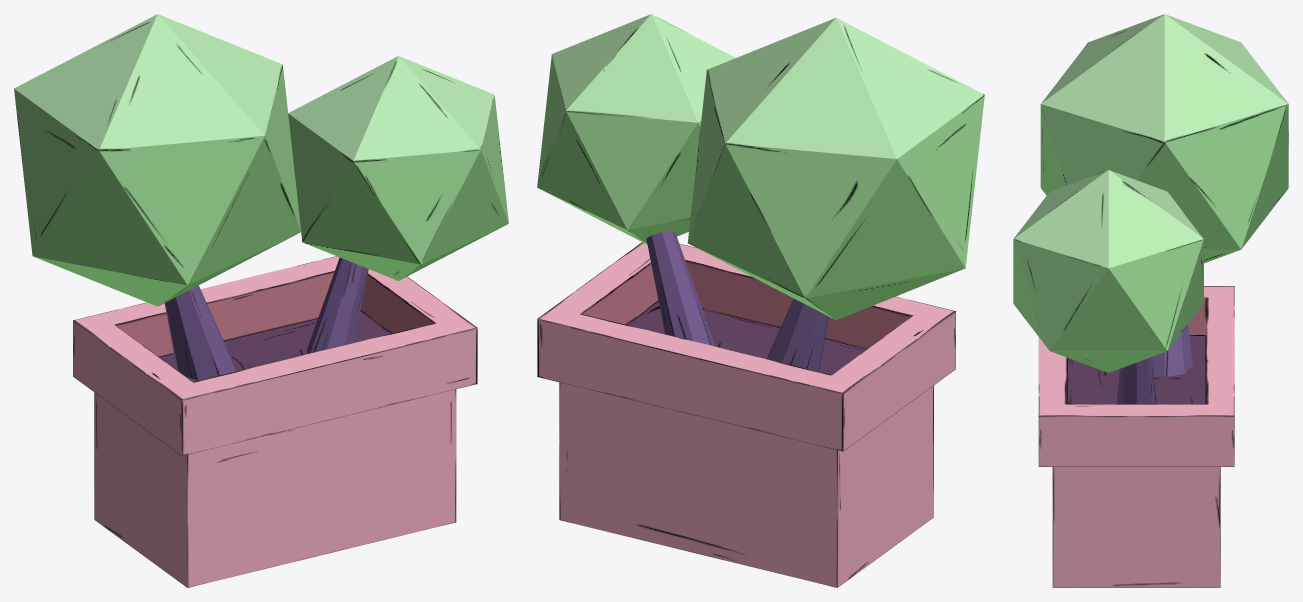
File: plant.fbx
3 renders of one model, left to right at view 1: azimuth 30°, elevation 25°; view 2: azimuth 150°, elevation 25°; view 3: azimuth 270°, elevation 25°, orthographic. The views are drawn at different scales.
Parts seen in each view (by area): view 1: plant; view 2: plant; view 3: plant.
Boxes of the visible parts, bbox=[...] form: plant: bbox=[14, 14, 508, 587]; plant: bbox=[537, 14, 984, 587]; plant: bbox=[1013, 14, 1288, 587].
Bounding box in the file's own units: 160 × 185 × 98.26.
